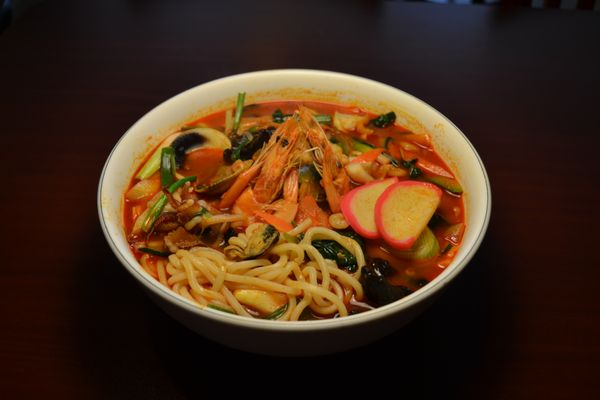sushi: (96, 60, 486, 358)
